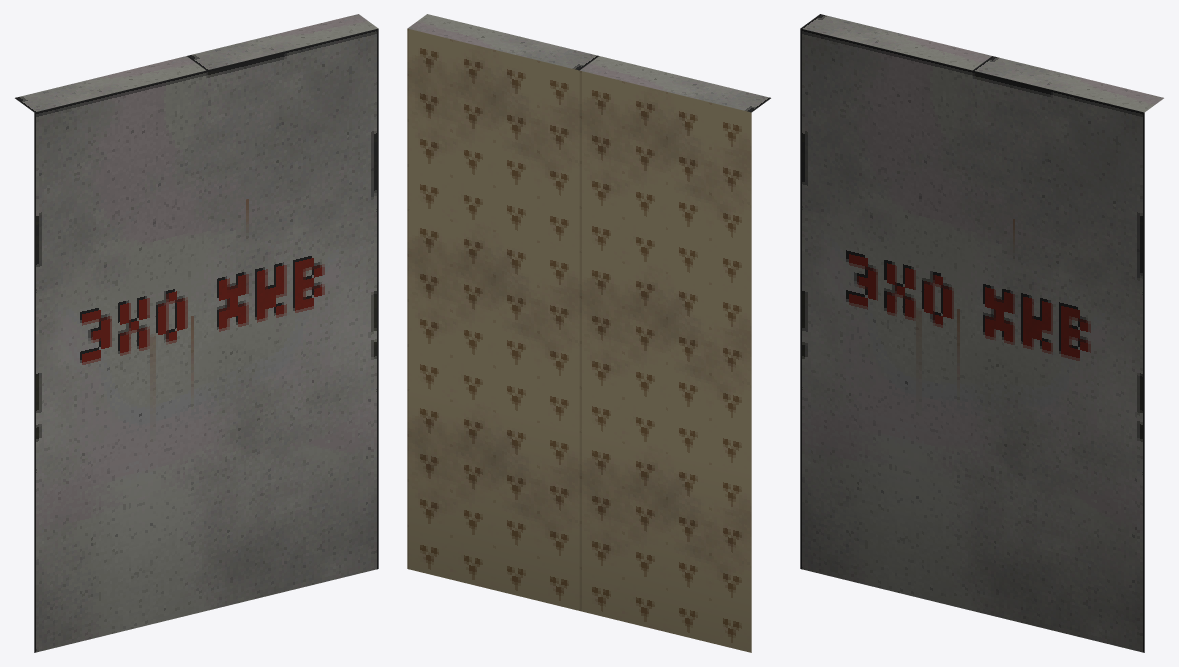
The model's file is wall_panel_graffiti.glb.
The picture shows the model from 3 angles, left to right: view 1: azimuth 30°, elevation 25°; view 2: azimuth 150°, elevation 25°; view 3: azimuth 330°, elevation 25°; orthographic projection.
Visible parts, largest first — view 1: wall_panel_graffiti; view 2: wall_panel_graffiti; view 3: wall_panel_graffiti.
Part boxes in pixels (x1=…): wall_panel_graffiti: x1=15, y1=14, x2=378, y2=652; wall_panel_graffiti: x1=407, y1=14, x2=770, y2=652; wall_panel_graffiti: x1=800, y1=14, x2=1163, y2=652.
Bounding box in the file's own units: 2 × 3 × 0.2.
Materials: 1 (1 with a texture image).
